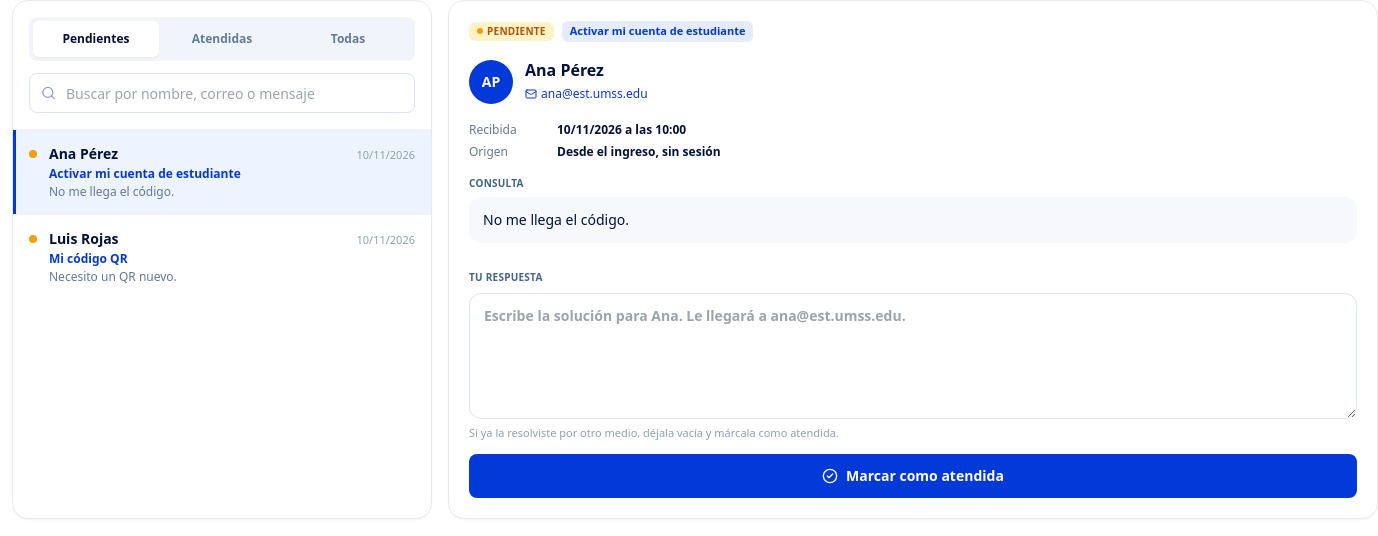
Test case: Mesa de ayuda › bandeja del ADMIN: lista a la izquierda, detalle con la respuesta y se recarga al atender
Later steps or results of the test are not shown.
Check: the text "No me llega el código." below "Consulta" is shown, box x1=483 y1=210 x2=629 y2=228
Check: the text "Desde el ingreso, sin sesión" is shown, box x1=557 y1=142 x2=721 y2=160
# Buscar filtra la lista.
Type "qr nuevo" into the field named "Buscar consulta". click: coordinates (222, 93)
box: x1=29 y1=73 x2=415 y2=113
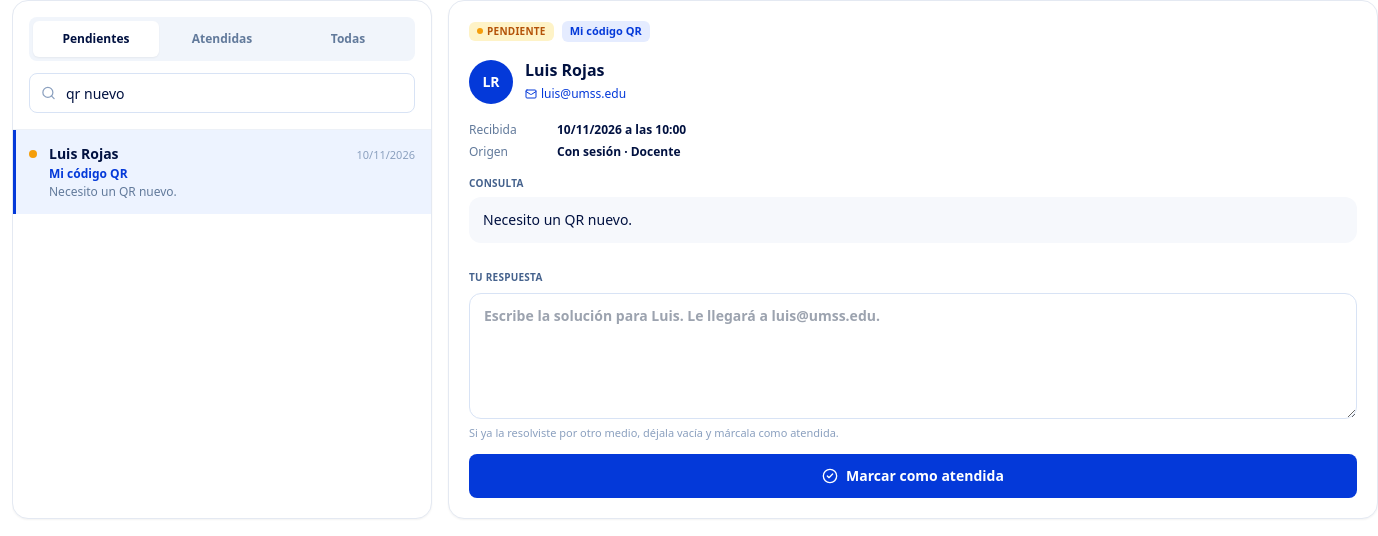
Check: the button "Ana Pérez" is gone
